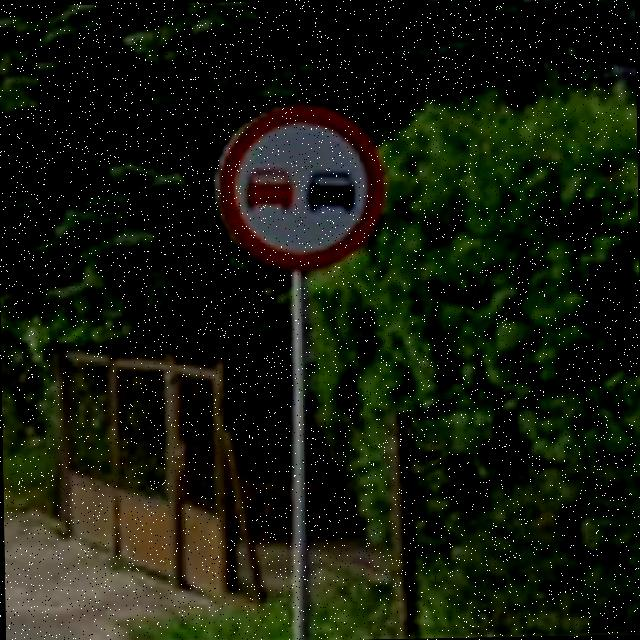Zakaz wyprzedzania: (211, 100, 386, 272)
